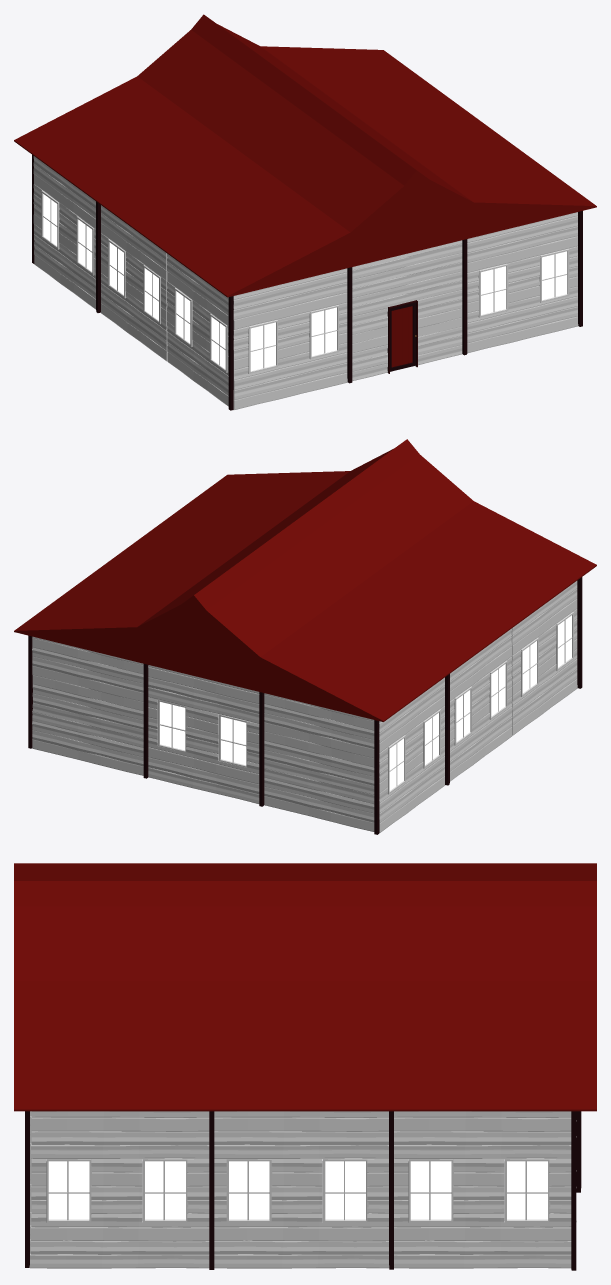
The model's file is village_hall.fbx.
3 views of the same model, one above another, from view 1: azimuth 30°, elevation 25°; view 2: azimuth 150°, elevation 25°; view 3: azimuth 270°, elevation 25° (orthographic). The views are drawn at different scales.
Visible parts, largest first — view 1: village_hall; view 2: village_hall; view 3: village_hall.
Part boxes in pixels (x1,y1,x2,y2): village_hall: (14,14,596,410); village_hall: (14,439,596,834); village_hall: (14,863,596,1270).
Size of the model in its own units: 74.05 by 38.51 by 74.05.
